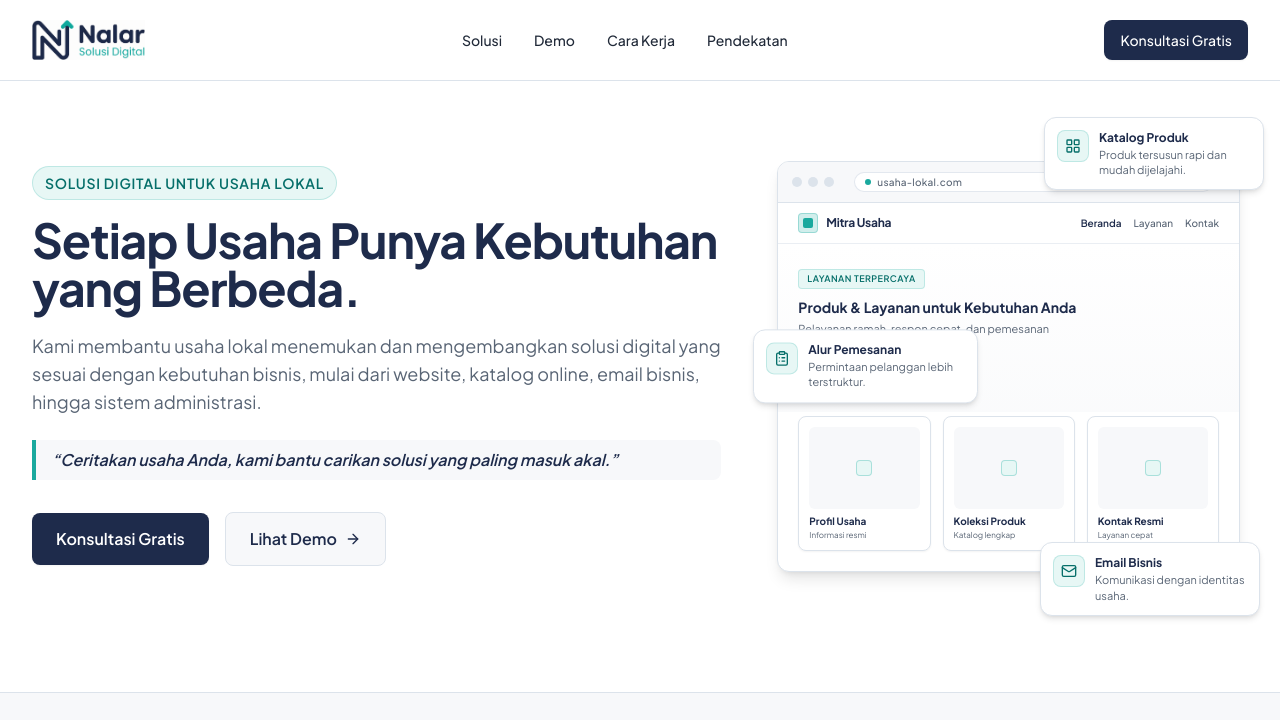
Test: HomePage (Full Narrative Composition) › opens the same consultation modal when Hero CTA and Langkah Selanjutnya CTA are clicked
Expected: the dialog "Mari Ceritakan Kebutuhan Usaha Anda" is not shown
// Click Hero CTA
What coordinates should you click on to do the following:
click the button "Konsultasi Gratis"
I would click on:
 (120, 539)
Its box is [32,513,209,565].
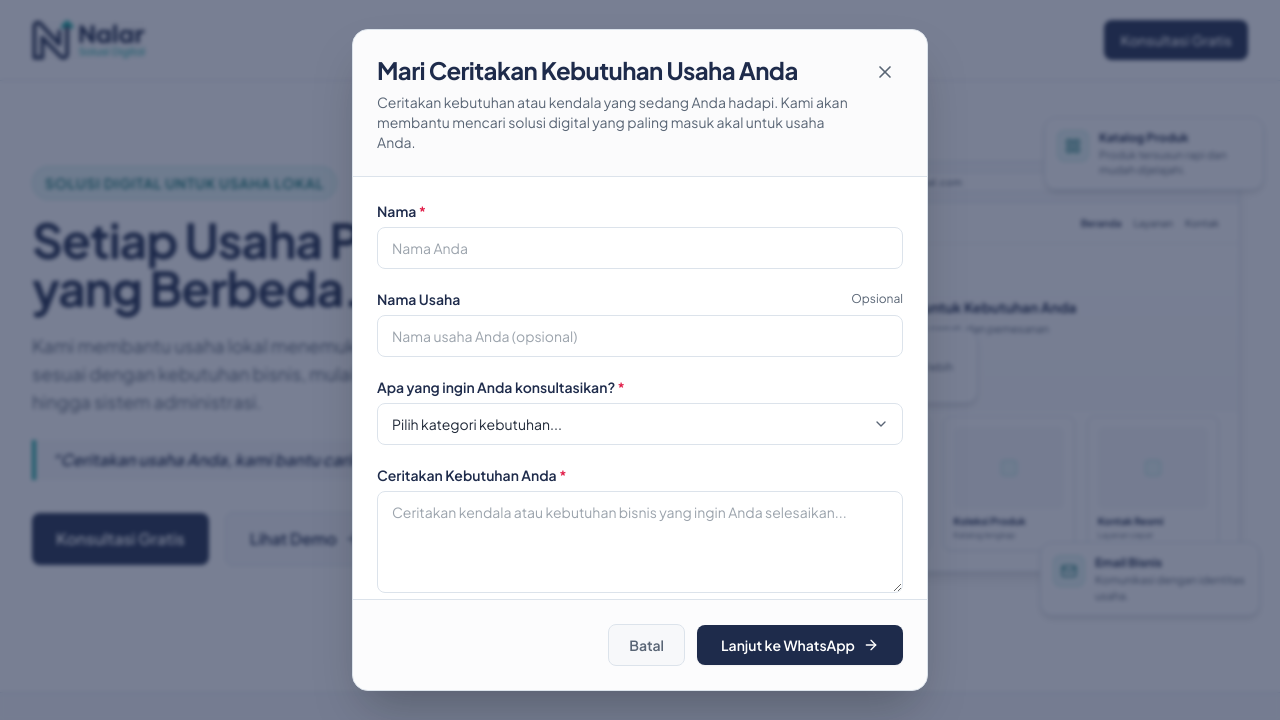
Now the dialog "Mari Ceritakan Kebutuhan Usaha Anda" is shown, box [352,29,928,691]
// Close modal via Batal button
What coordinates should you click on to do the following:
click the button "Batal"
I would click on:
 (647, 645)
Its box is [608,624,685,666].
(page scrolled)
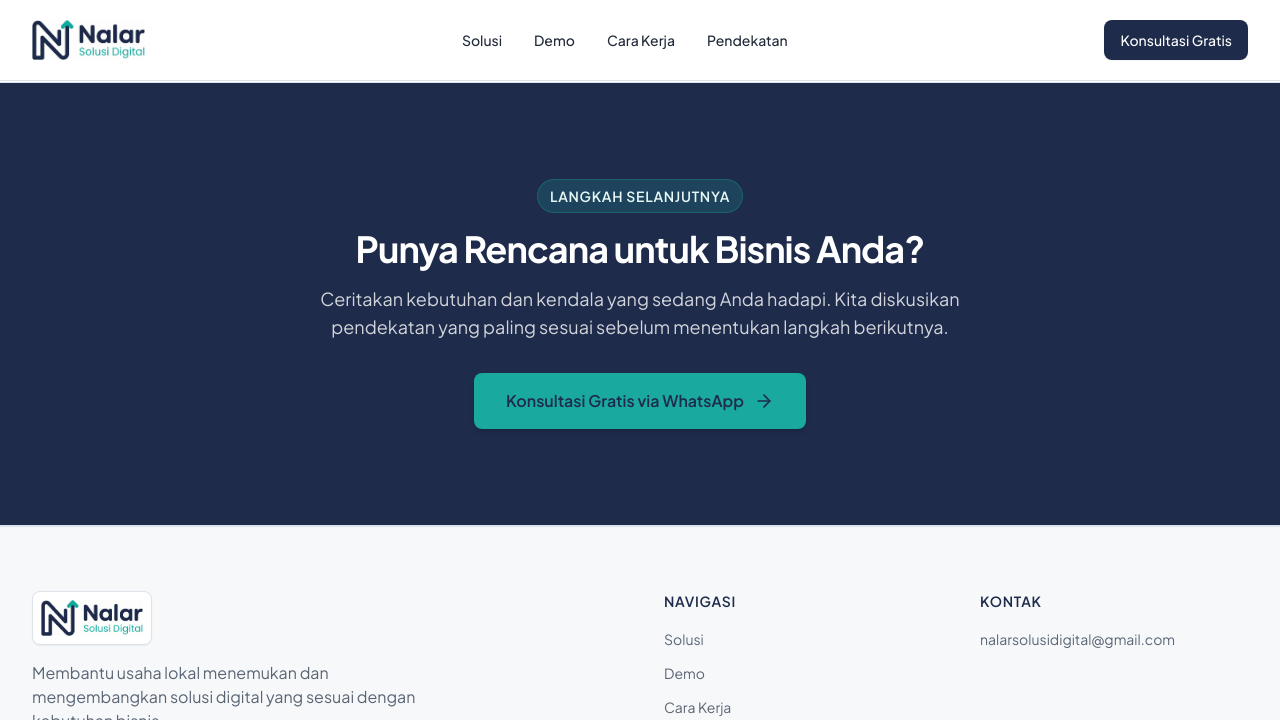
Now the heading "Mari Ceritakan Kebutuhan Usaha Anda" is gone
// Click Langkah Selanjutnya CTA (ContactCTA)
What coordinates should you click on to do the following:
click the button "Konsultasi Gratis via WhatsApp"
I would click on:
 (640, 401)
Its box is [474,373,806,429].
(page scrolled)
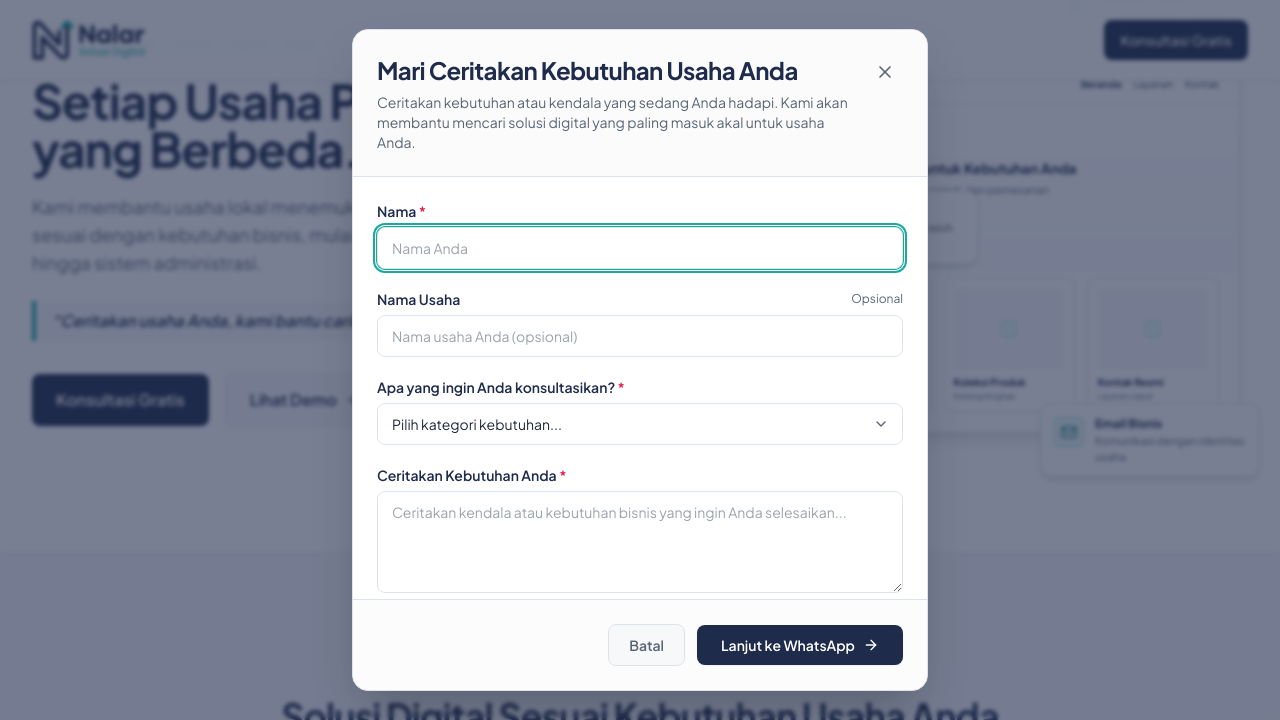
Now the dialog "Mari Ceritakan Kebutuhan Usaha Anda" is shown, box [352,29,928,691]
